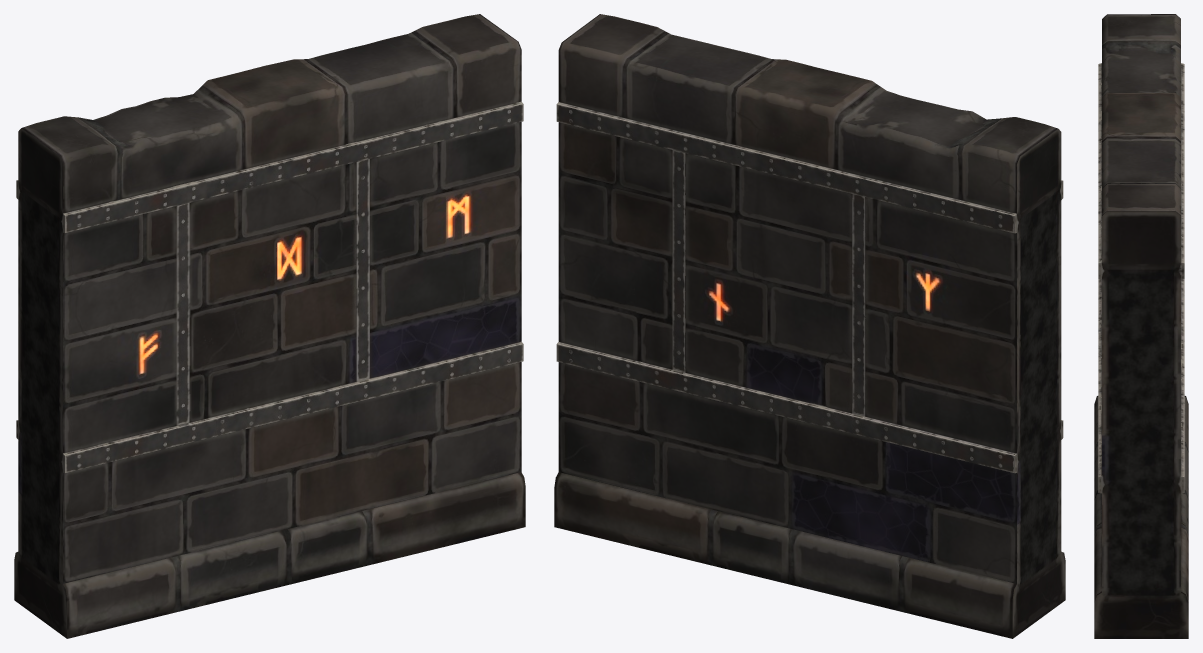
The model's file is hellforge_wall.glb.
3 views of the same model, side by side, from view 1: azimuth 30°, elevation 25°; view 2: azimuth 150°, elevation 25°; view 3: azimuth 270°, elevation 25° (orthographic). The views are drawn at different scales.
Parts seen in each view (by area): view 1: hellforge_wall; view 2: hellforge_wall; view 3: hellforge_wall.
Boxes of the visible parts, x1,y1,x2,y2 form: hellforge_wall: (14, 14, 525, 638); hellforge_wall: (554, 14, 1065, 638); hellforge_wall: (1094, 14, 1188, 638).
Size of the model in its own units: 4 by 4.01 by 0.8.
Materials: 1 (1 with a texture image).
